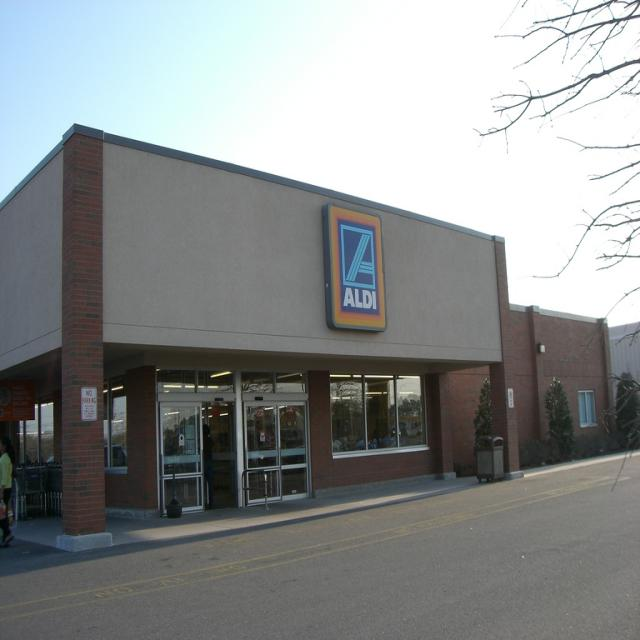aldi: (331, 207, 386, 328)
